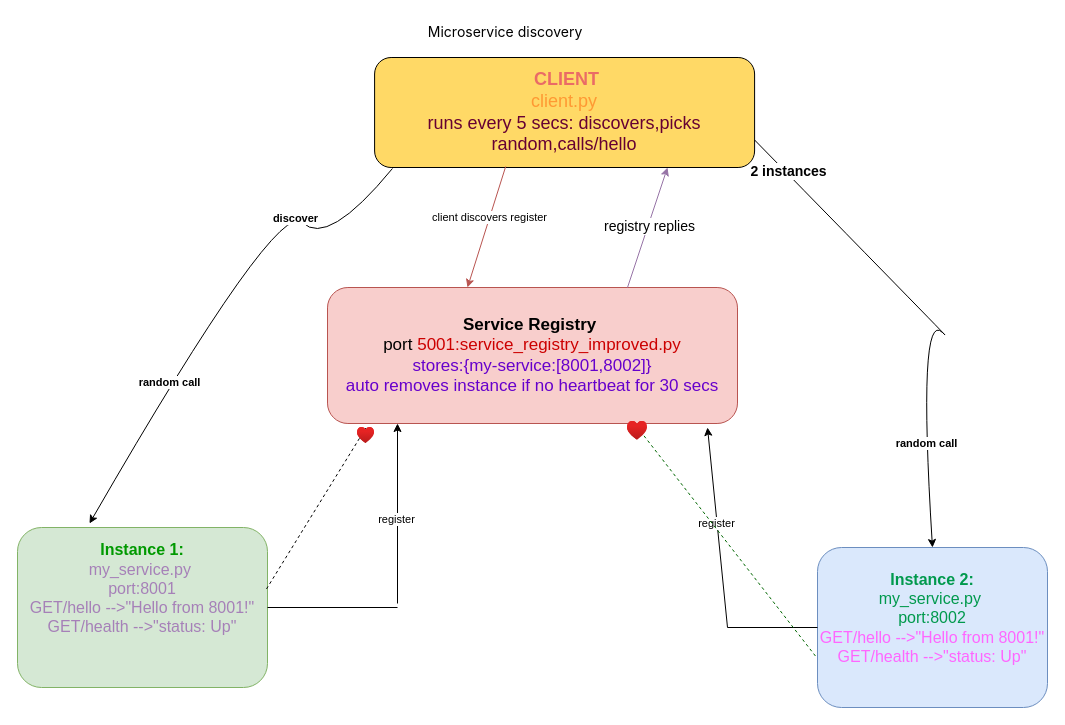
Image size: 1065x725. Some labels were removed from this diagram. Here are the shapes that lost their labels. From the top down, the centre of each, then its label:
the point at 365,435: every 10 secs
the point at 637,430: every 10secs
